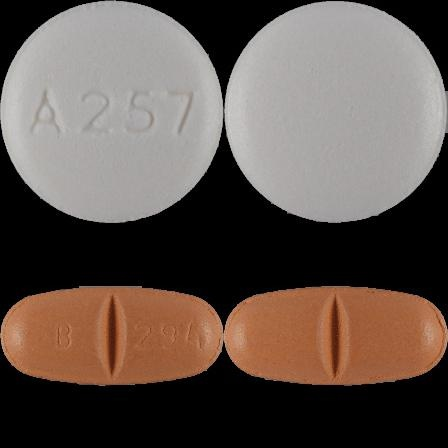68084-866: (0, 0, 224, 224)
